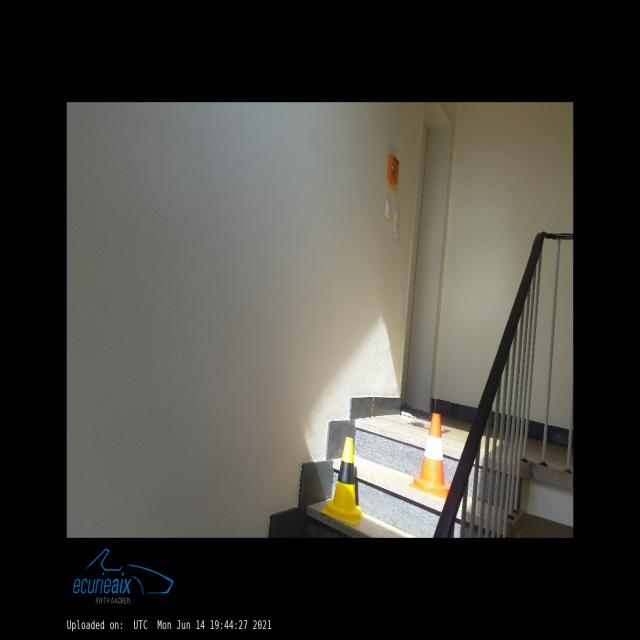orange_cone: (410, 413, 450, 498)
yellow_cone: (321, 437, 363, 525)
